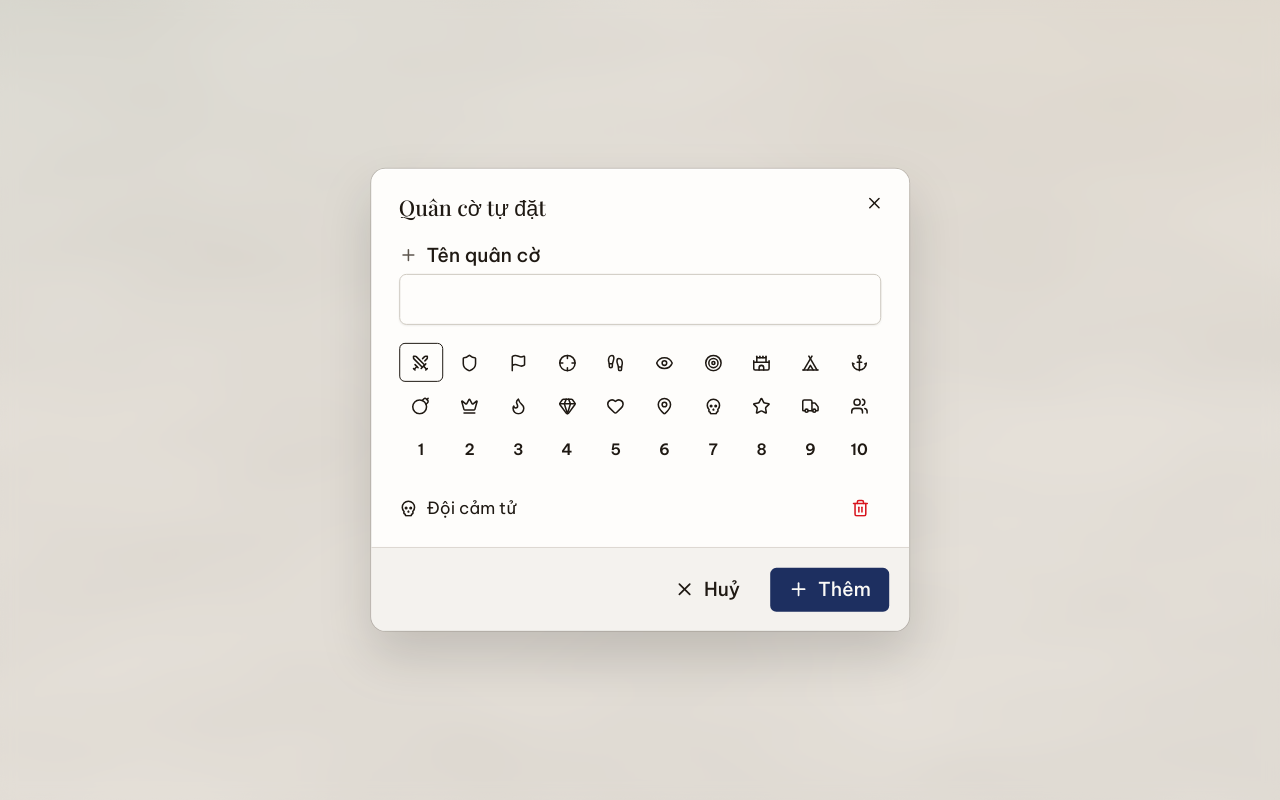
it: TokenPresetDialog › shows the backend's sentence when the label is taken
This screenshot has width=1280, height=800.
Type "Đội cảm tử" into the field labelled "Tên quân cờ" at (640,299), box x1=399 y1=274 x2=881 y2=325
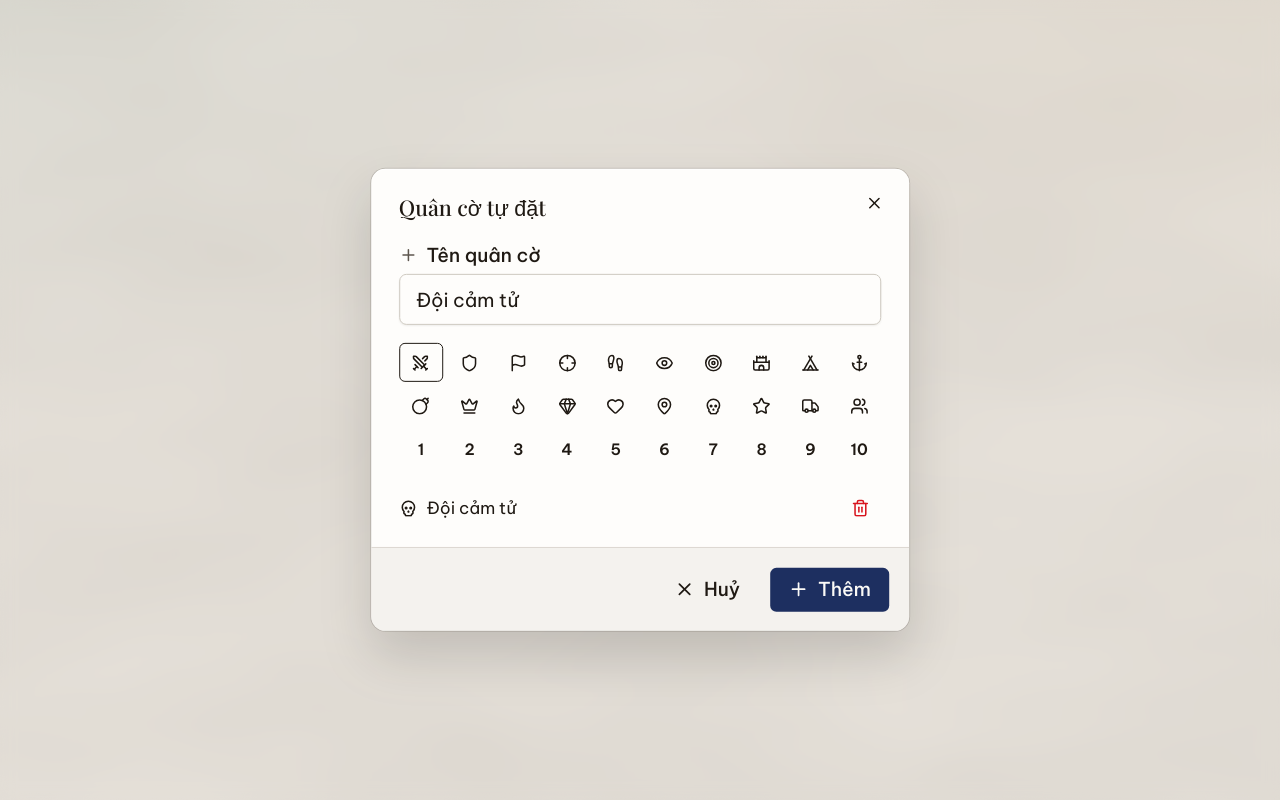
Click the button "Thêm" at (830,590), box x1=769 y1=567 x2=890 y2=613
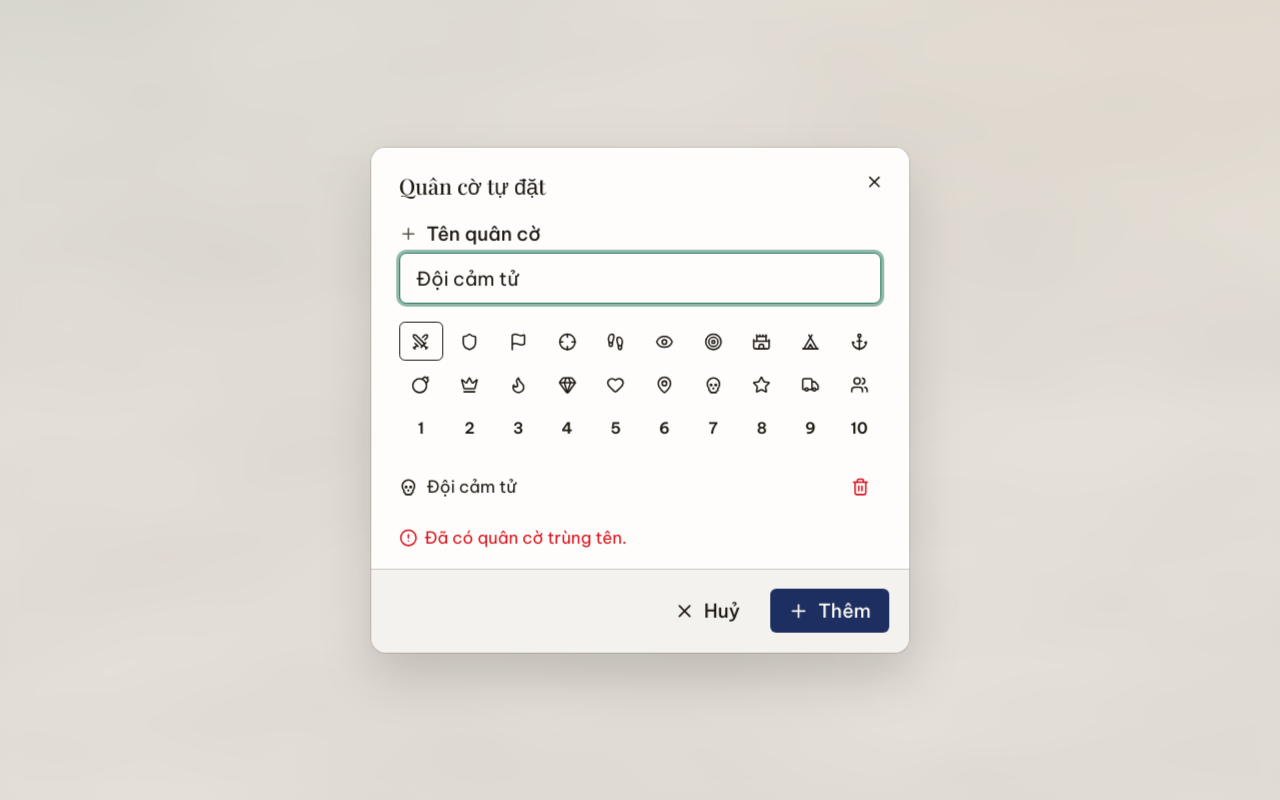
Result: the text "Đã có quân cờ trùng tên." is shown at x1=399 y1=527 x2=627 y2=548
